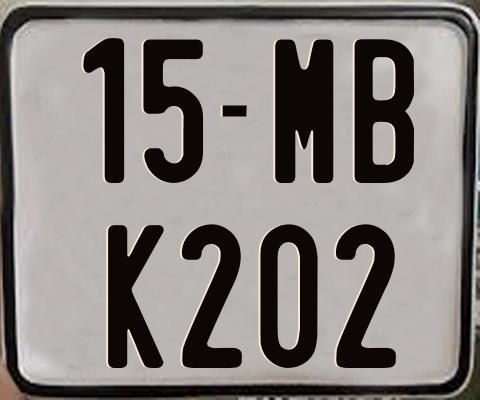0: (259, 222, 317, 368)
1: (81, 38, 128, 189)
2: (179, 224, 242, 373), (336, 224, 398, 369)
5: (140, 36, 204, 186)
B: (355, 38, 419, 183)
K: (105, 224, 161, 368)
M: (275, 37, 336, 187)
